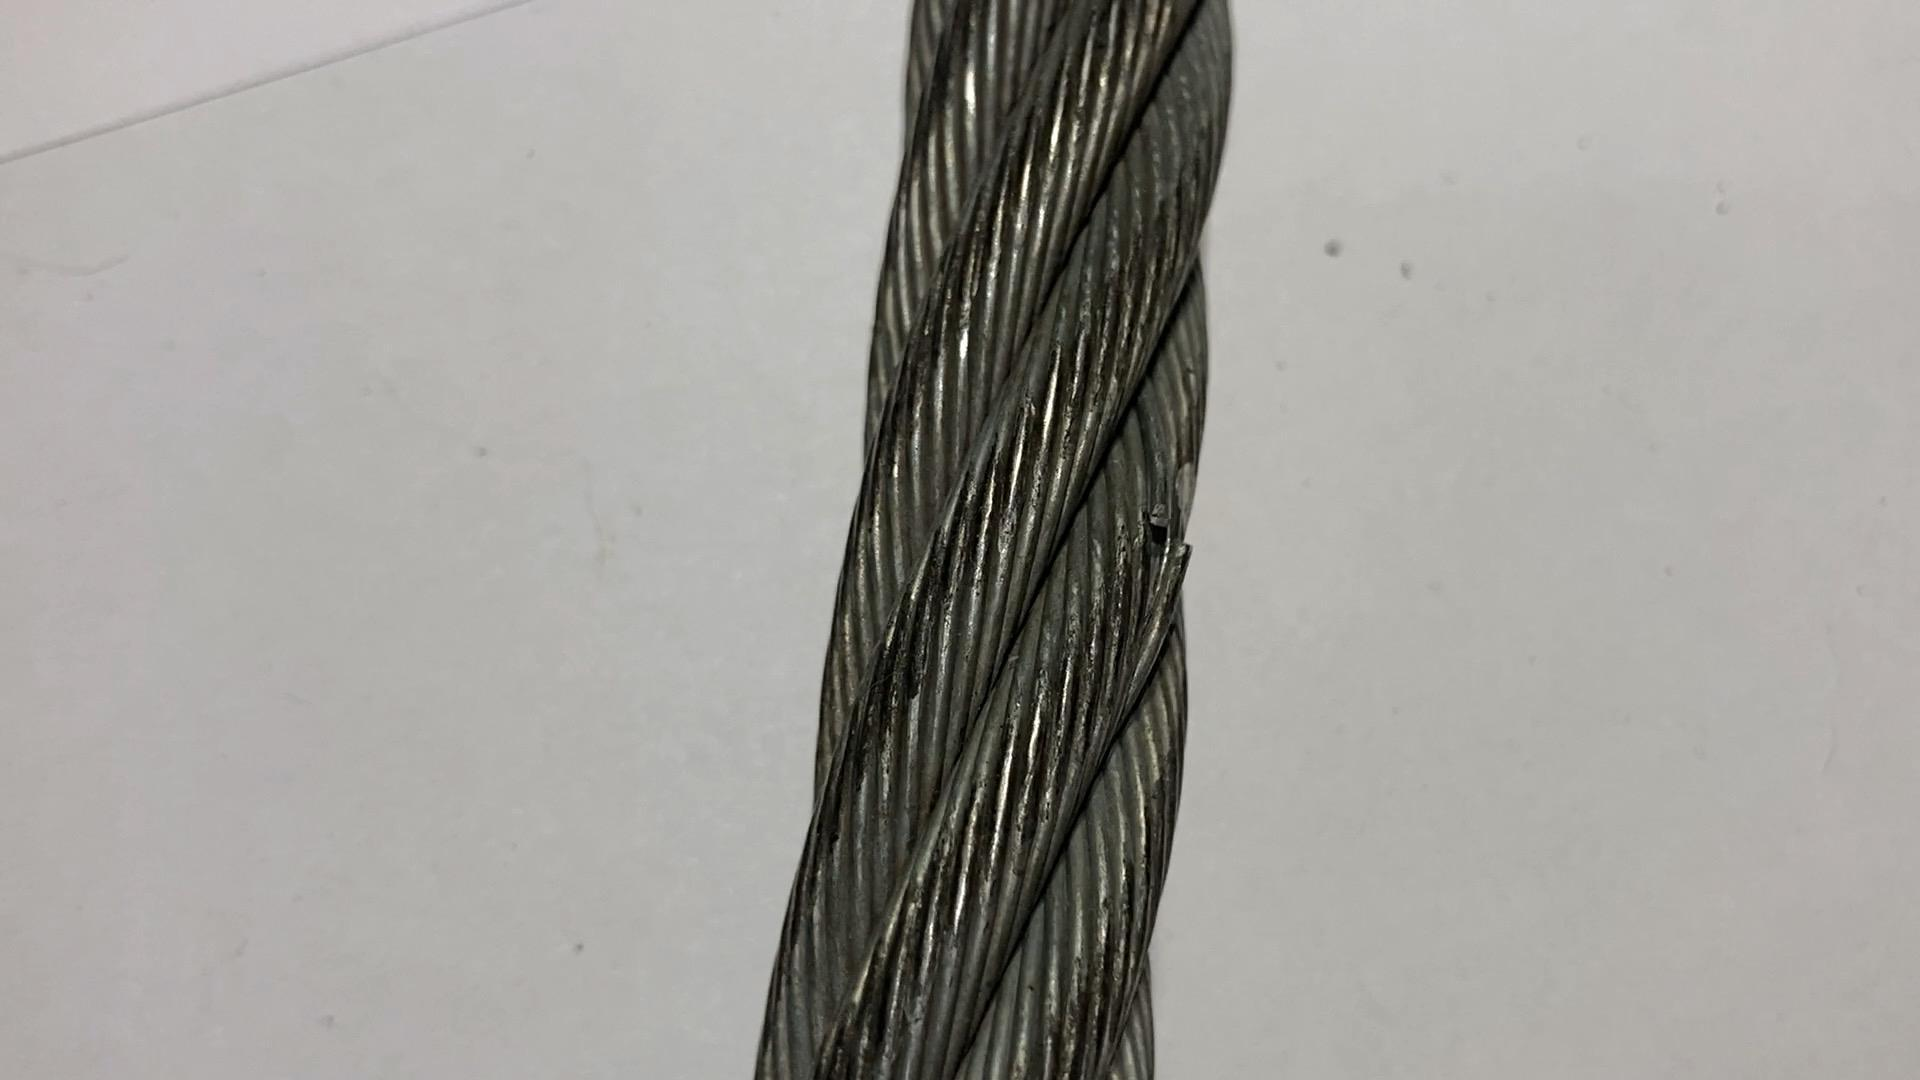break: (1127, 443, 1215, 576)
